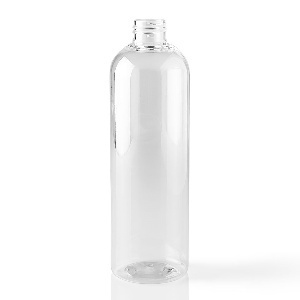emptybottle: (110, 19, 190, 283)
